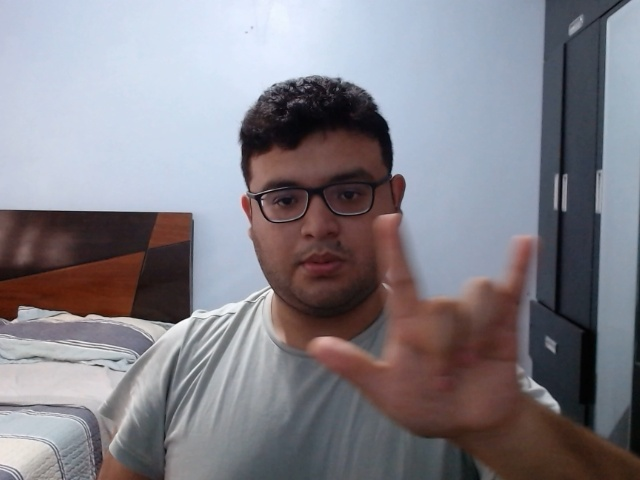I love you: (305, 208, 549, 448)
